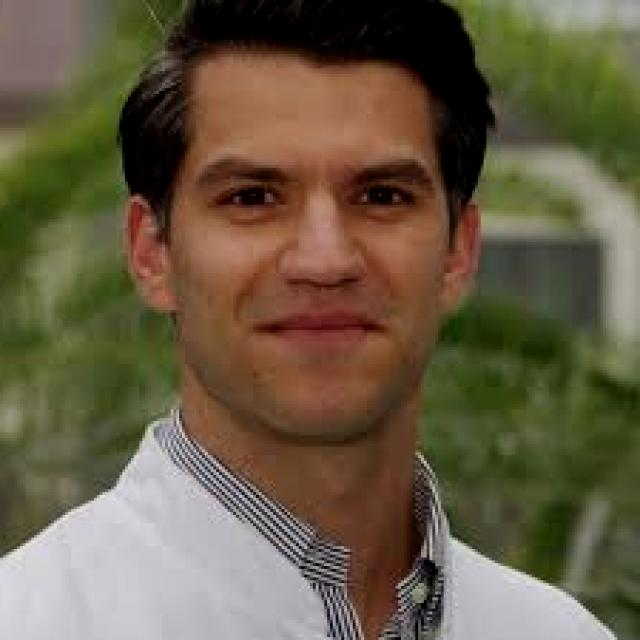normal_face: (66, 22, 487, 487)
